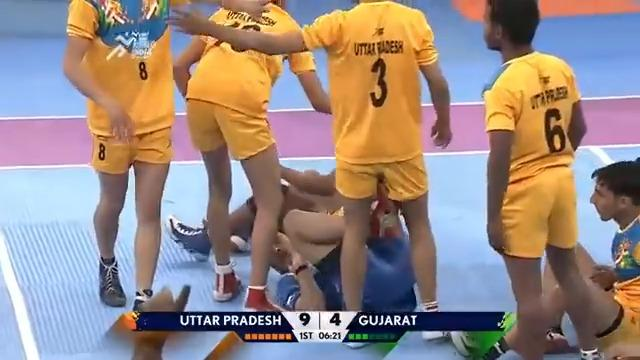Player: (174, 0, 453, 343), (166, 0, 323, 312), (478, 0, 609, 359), (62, 0, 192, 312)
